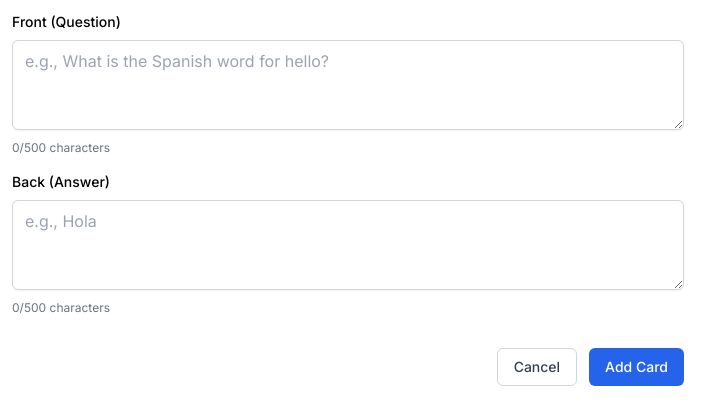
CardForm Component › should validate empty front text
Type "Answer" into the text box labelled "Back (Answer)" at (348, 245), box left=12, top=200, right=684, bottom=290
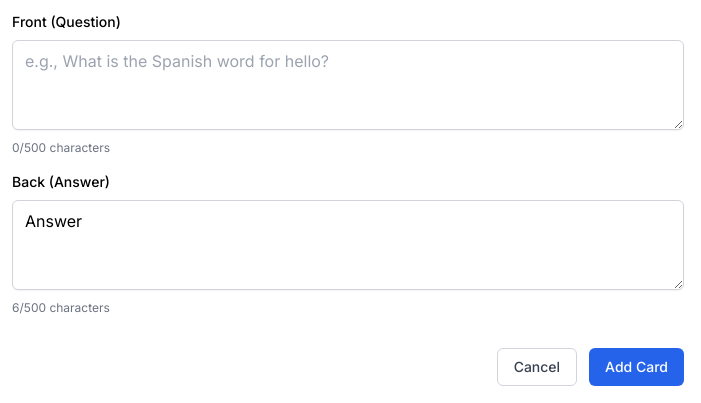
Click the button "Add Card" at (637, 367), box left=589, top=348, right=684, bottom=386
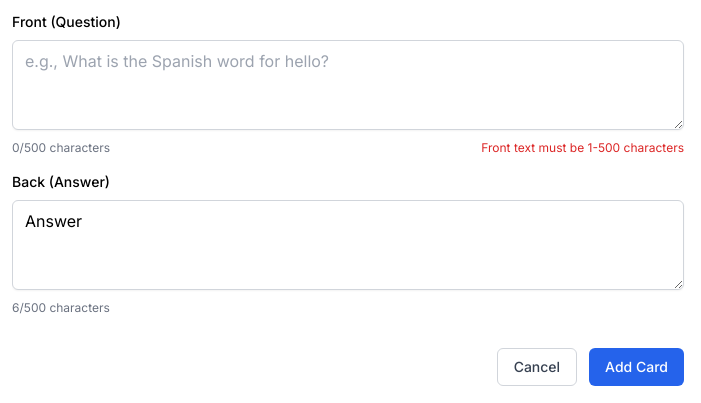
Now the text "Front text must be 1-500 characters" is shown, box left=481, top=140, right=684, bottom=156
